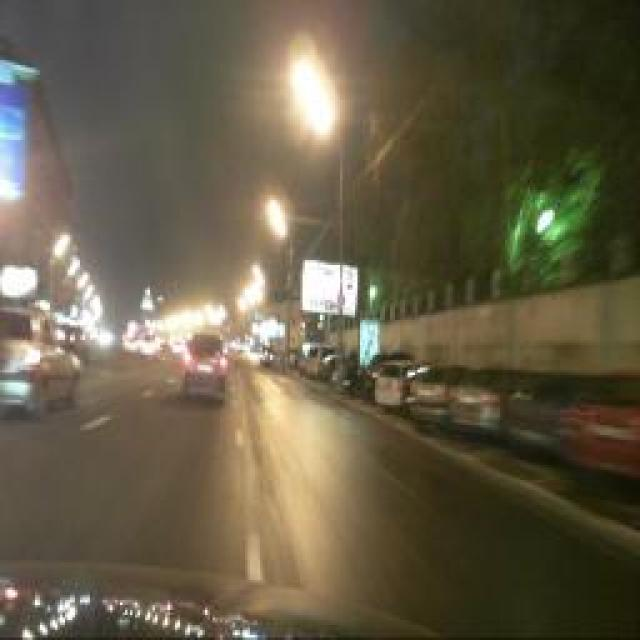sign: (336, 292, 344, 308)
